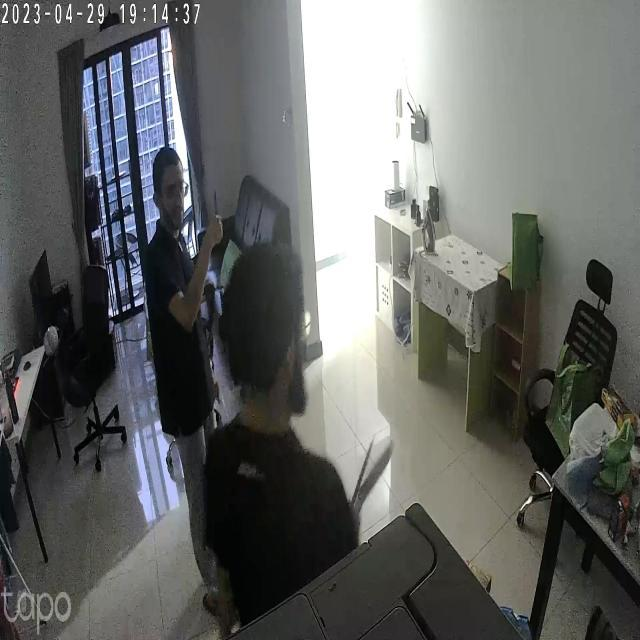Knife: (357, 429, 400, 517), (203, 185, 227, 240)
